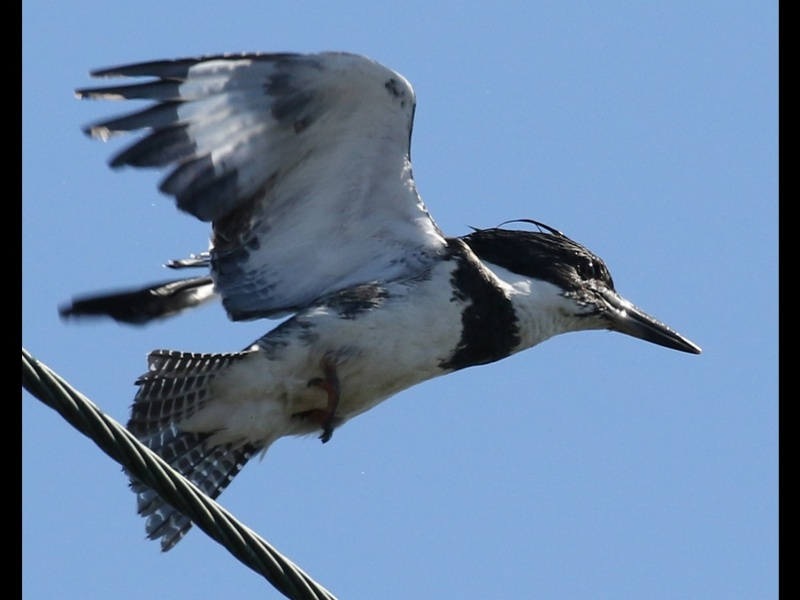kingfisher: (59, 49, 704, 550)
